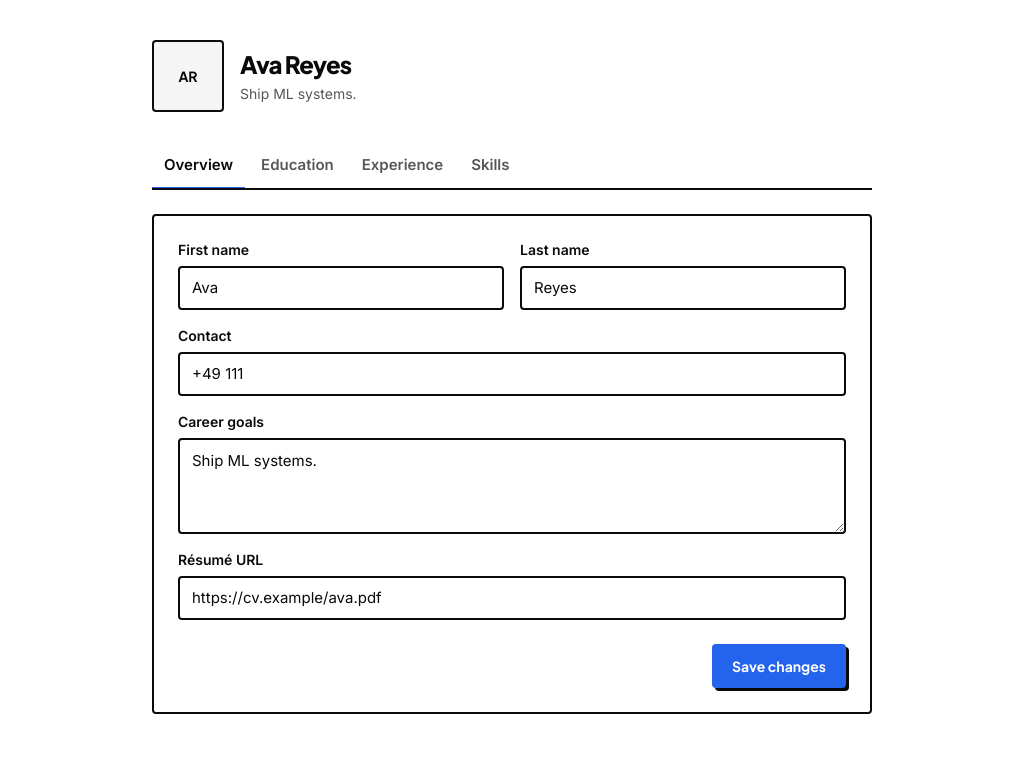
Test: SeekerProfilePage › adds a skill, posting {skill_name, skill_level} and toasting
Step 1. Click the tab "Skills" → (490, 167), box [459,144,522,190]
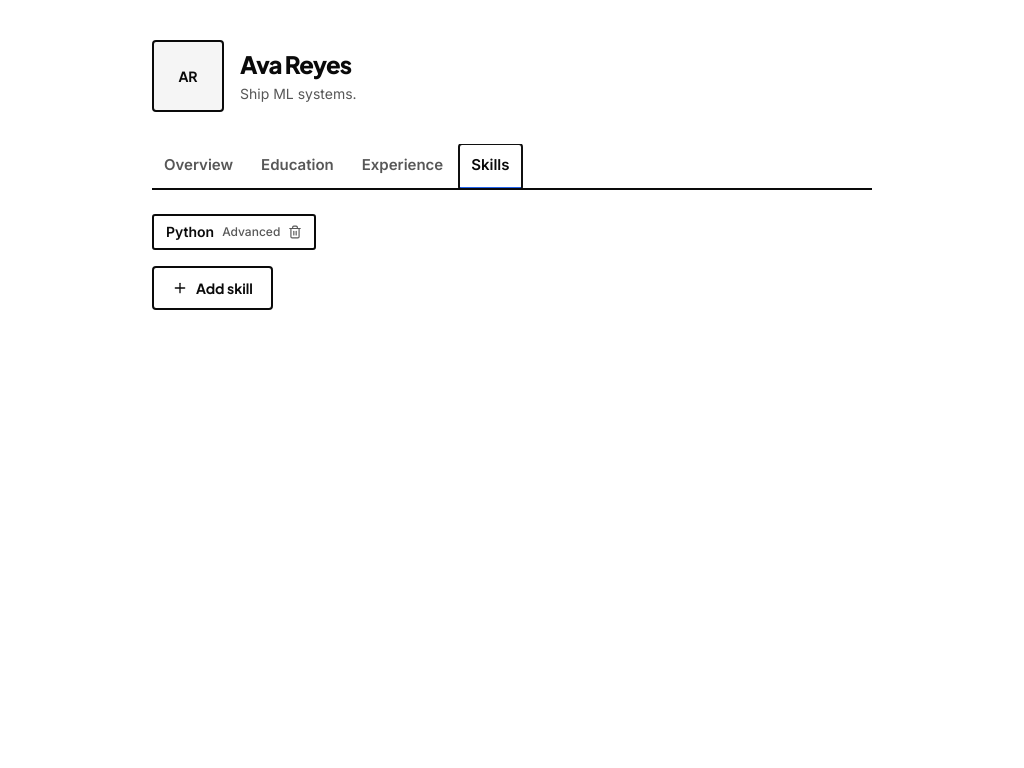
Step 2. Click the button "Add skill" → (212, 288), box [152,266,273,310]
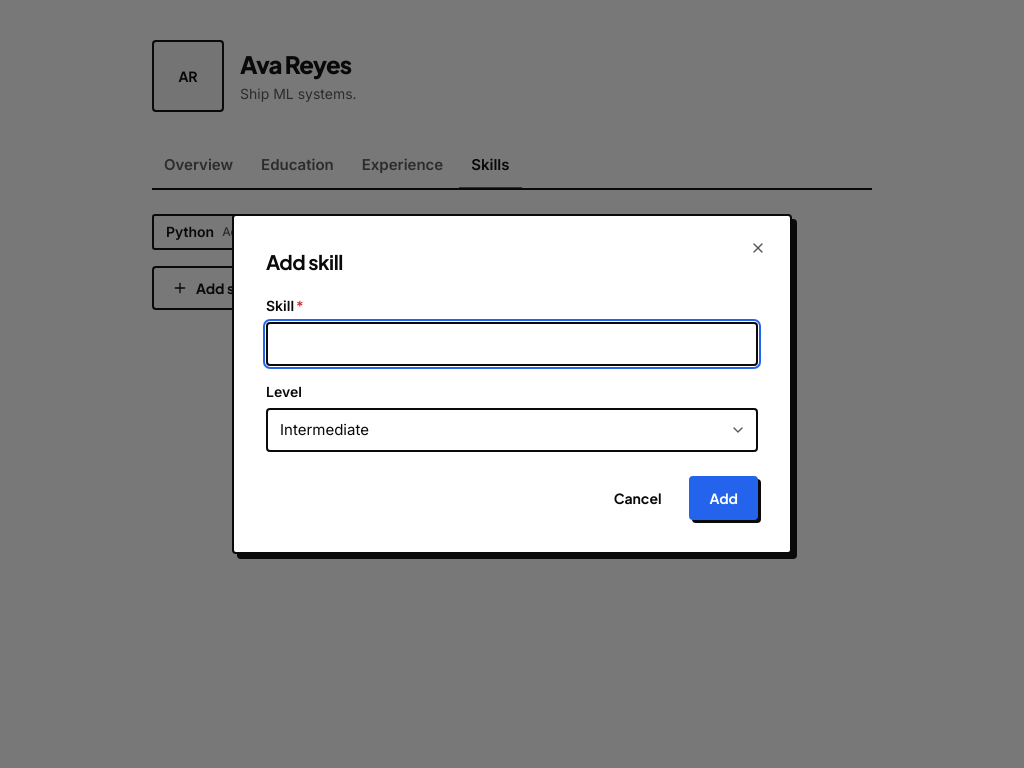
Step 3. Type "Rust" into the field labelled "Skill*" → (512, 344), box [266,322,758,366]
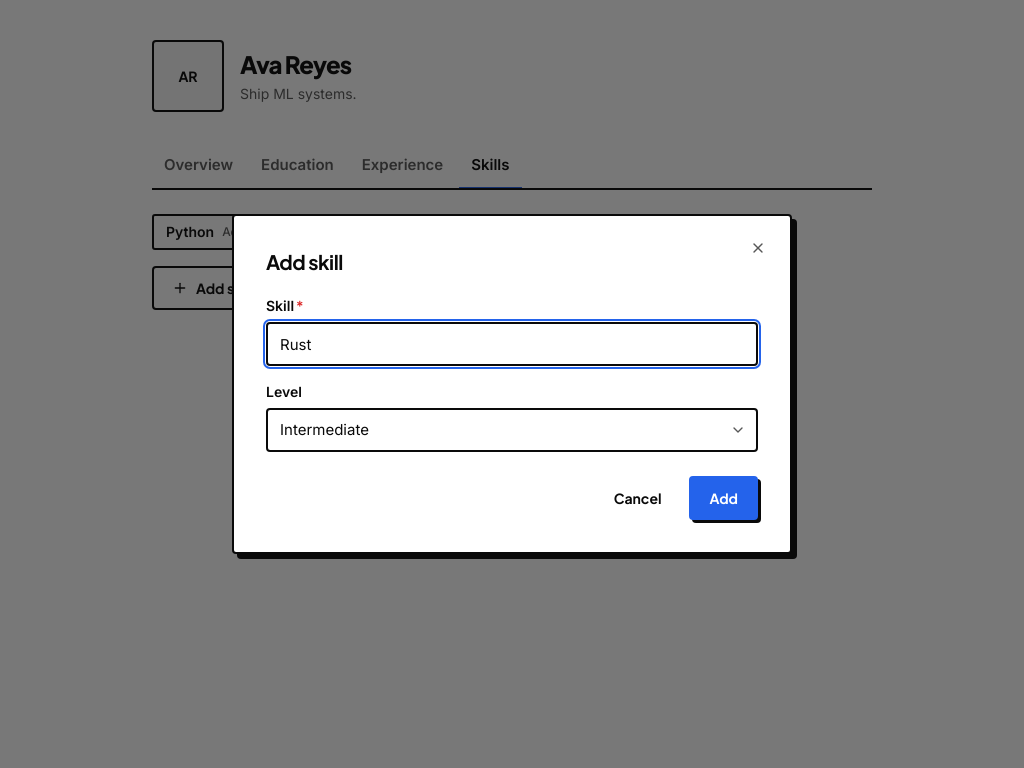
Step 4. Click the button "Add" → (724, 498), box [690,476,758,520]
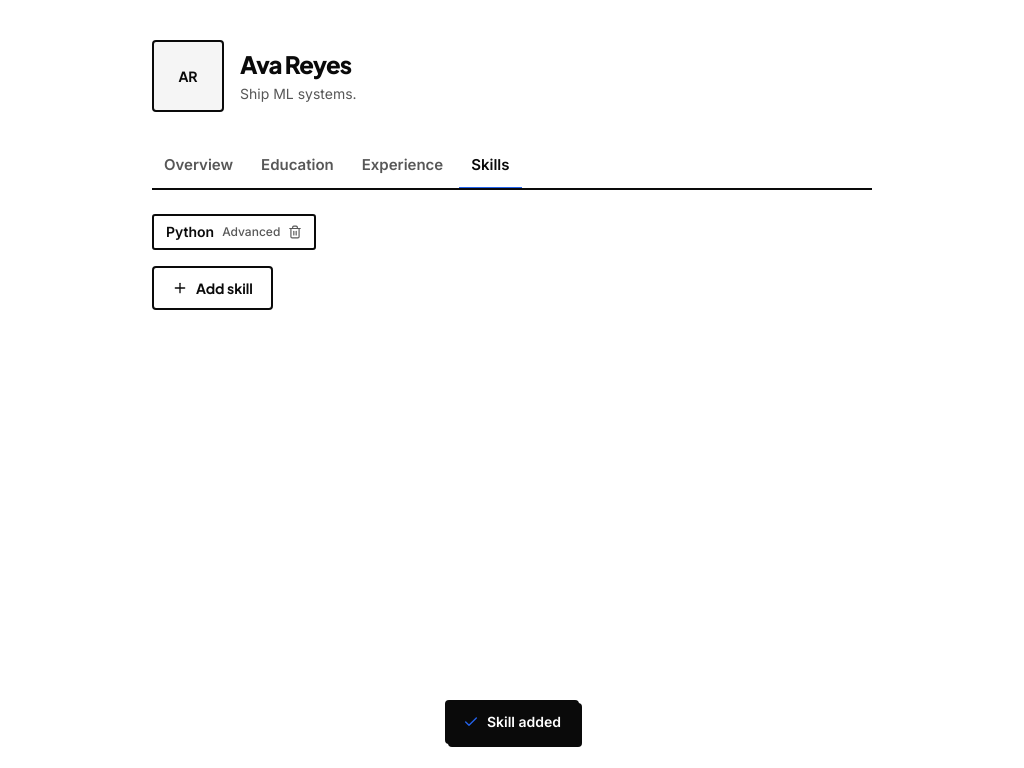
Expected: the text "Skill added" is shown, [445,700,579,744]
